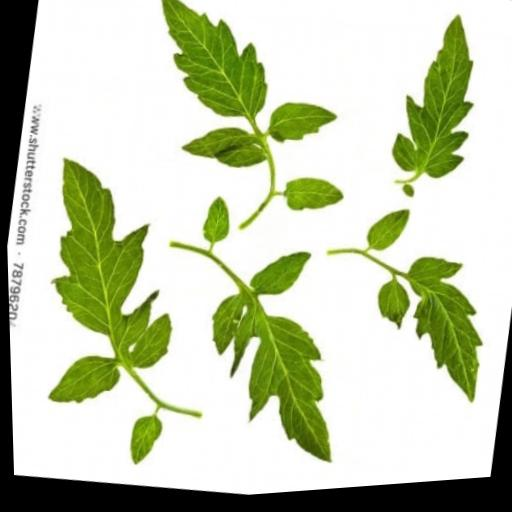Healthy: (186, 290, 353, 477), (32, 151, 178, 357), (382, 11, 489, 191), (145, 0, 282, 131), (385, 256, 495, 416), (42, 347, 120, 414), (263, 99, 340, 157), (245, 248, 311, 308), (178, 120, 254, 170), (122, 309, 173, 376), (279, 175, 345, 224), (362, 209, 409, 261), (121, 412, 163, 470), (368, 284, 410, 338), (209, 142, 267, 178), (197, 197, 233, 249)
